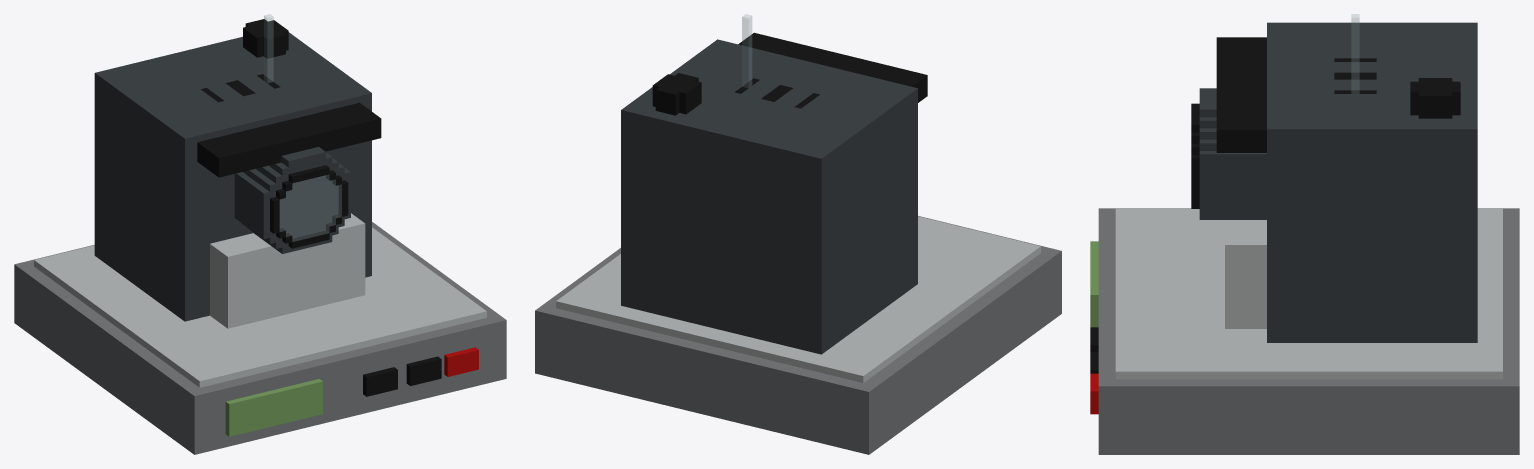
File: melting_point.glb
3 views of the same model, side by side, from view 1: azimuth 30°, elevation 25°; view 2: azimuth 150°, elevation 25°; view 3: azimuth 270°, elevation 25° (orthographic). The views are drawn at different scales.
Parts seen in each view (by area): view 1: melting_point:compound; view 2: melting_point:compound; view 3: melting_point:compound.
Boxes of the visible parts, box(x1,y1,x2,y2) form: melting_point:compound: box(14, 14, 506, 454); melting_point:compound: box(535, 14, 1061, 454); melting_point:compound: box(1090, 14, 1519, 454).
Bounding box in the file's own units: 0.2 × 0.192 × 0.204.
